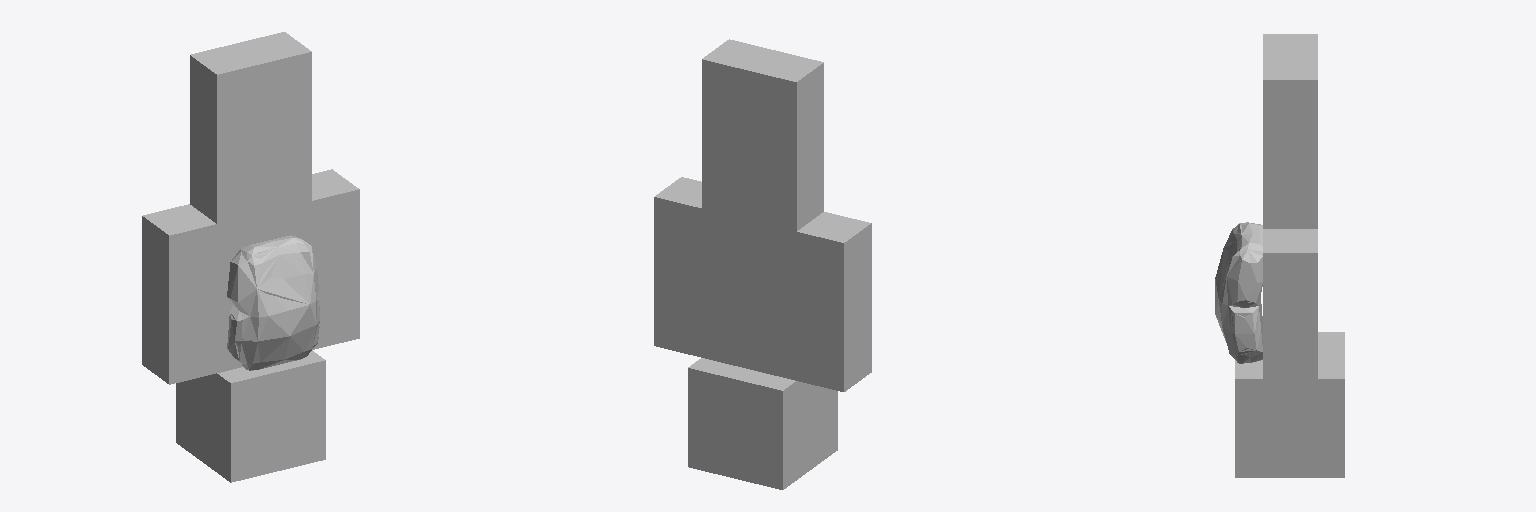
Rendered from stalker.backpack.obj.
3 views of the same model, side by side, from view 1: azimuth 30°, elevation 25°; view 2: azimuth 150°, elevation 25°; view 3: azimuth 270°, elevation 25° (orthographic).
Visible parts, largest first — view 1: head, right_leg, right_arm, bodyModel, left_leg, left_arm, body; view 2: head, body, right_arm, right_leg, left_leg, left_arm; view 3: head, left_arm, left_leg, bodyModel, right_leg.
Boxes of the visible parts, <box> form: head: <box>176,350,325,482</box>; right_leg: <box>190,43,264,223</box>; right_arm: <box>142,204,216,384</box>; bodyModel: <box>227,235,319,370</box>; left_leg: <box>238,32,311,211</box>; left_arm: <box>312,169,359,349</box>; body: <box>217,201,311,372</box>; head: <box>688,358,837,489</box>; body: <box>702,209,796,380</box>; right_arm: <box>797,212,871,391</box>; right_leg: <box>749,51,823,231</box>; left_leg: <box>702,39,775,219</box>; left_arm: <box>654,177,701,357</box>; head: <box>1235,332,1344,477</box>; left_arm: <box>1263,229,1317,401</box>; left_leg: <box>1263,57,1317,228</box>; bodyModel: <box>1215,222,1262,363</box>; right_leg: <box>1263,34,1317,56</box>.
Size of the model in its own units: 15.93 by 31.85 by 9.46.